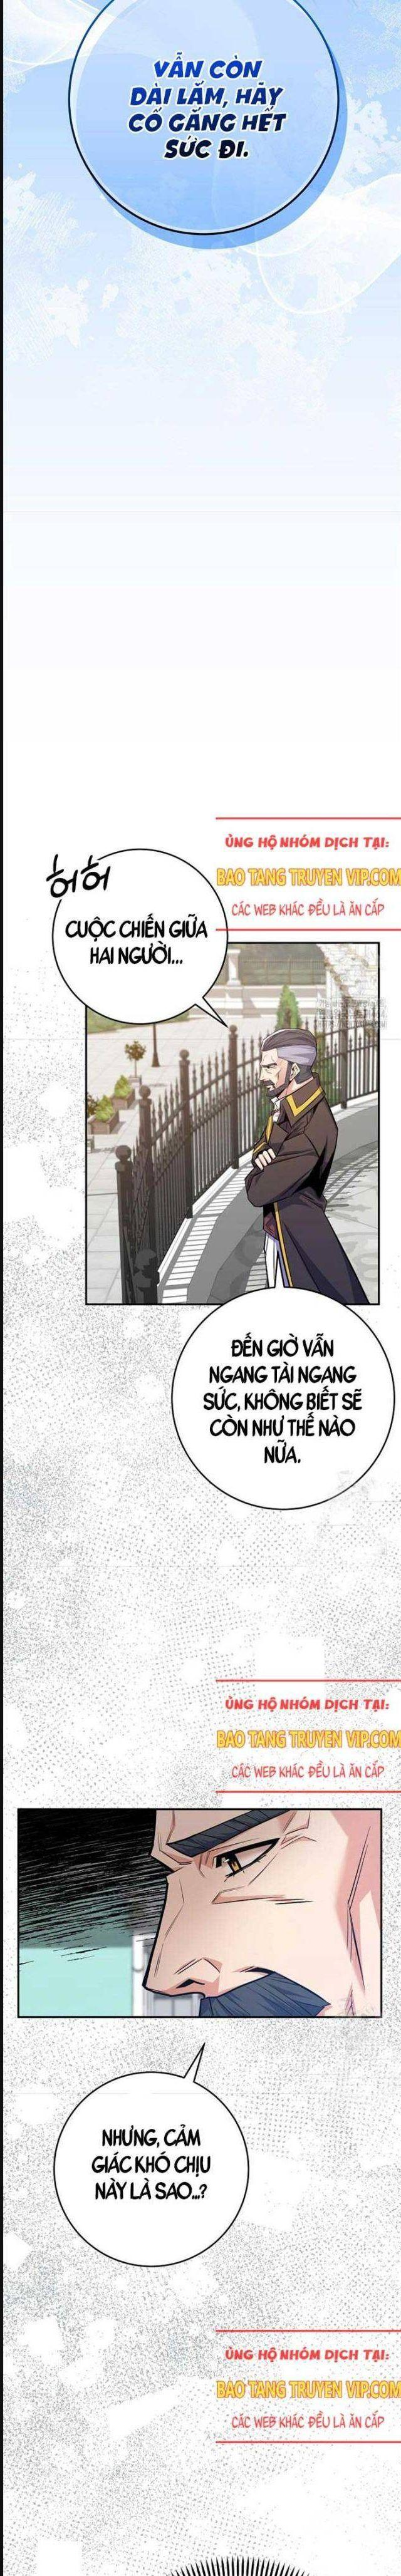quangcao: (204, 1676, 401, 1797), (214, 2326, 401, 2449), (219, 818, 401, 930)
